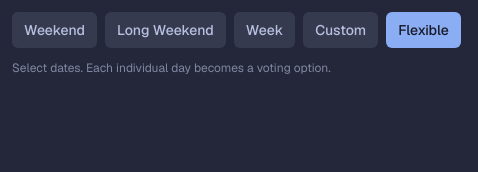
Test: PatternPicker › help text › shows appropriate help text for week preset
The width and height of the screenshot is (478, 172).
Click the button "Week" at (265, 30), box [234, 12, 295, 48]
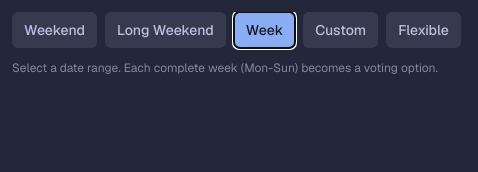
Expected: the text "Each complete week (Mon-Sun) becomes a voting option" is shown, [12, 60, 438, 76]
